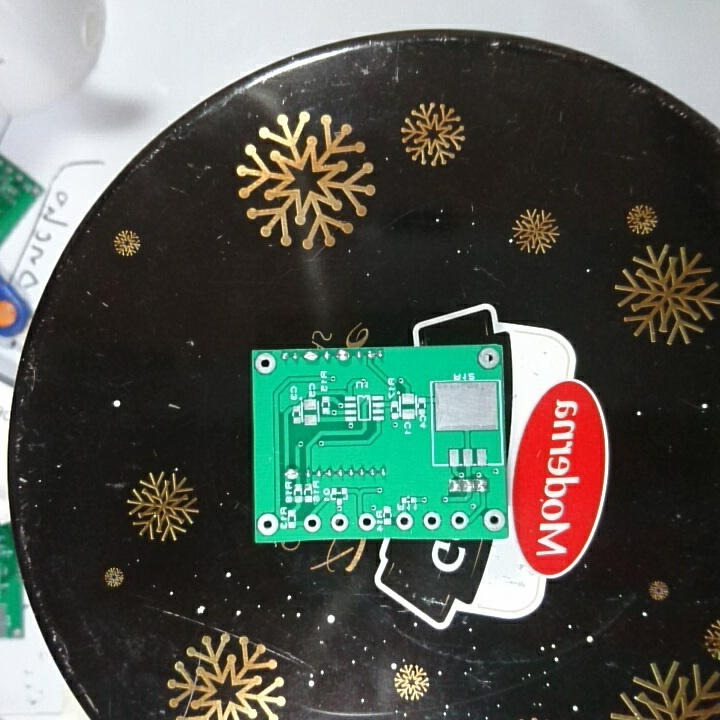F: (254, 351, 279, 377), (256, 511, 281, 536), (480, 509, 505, 533), (475, 346, 501, 369), (448, 510, 471, 531), (357, 512, 378, 534), (302, 512, 322, 534), (329, 512, 349, 533), (394, 510, 414, 531), (421, 512, 441, 532)
P: (281, 465, 301, 482), (302, 349, 320, 366), (334, 348, 351, 364)
